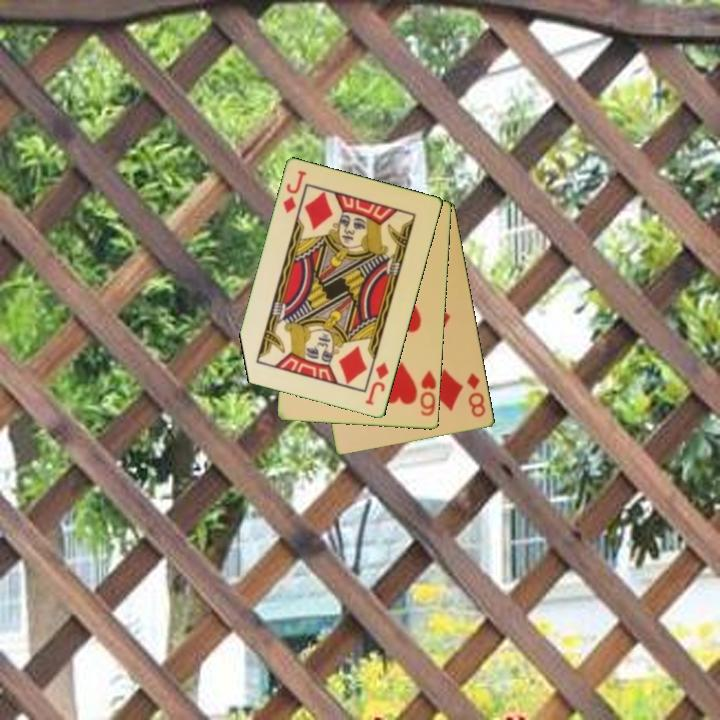6h: (417, 367, 439, 419)
8d: (463, 369, 489, 420)
Jd: (362, 359, 392, 408), (280, 167, 310, 216)
